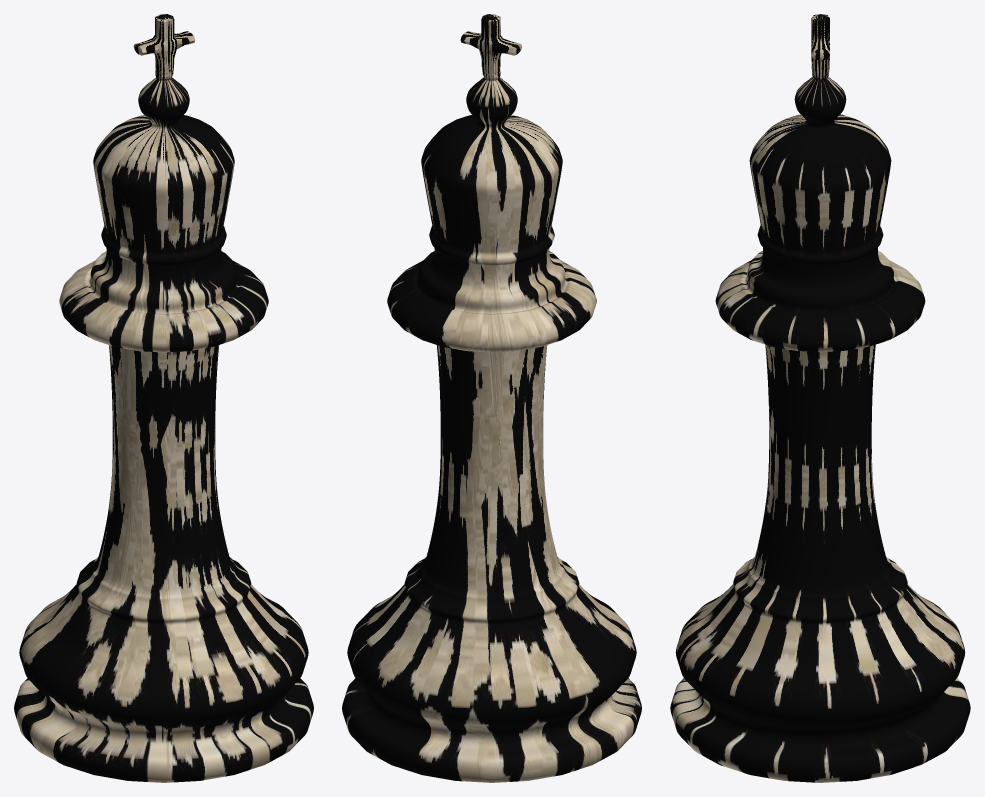
File: king_light.obj
The picture shows the model from 3 angles, left to right: view 1: azimuth 30°, elevation 25°; view 2: azimuth 150°, elevation 25°; view 3: azimuth 270°, elevation 25°; orthographic projection.
Parts seen in each view (by area): view 1: King; view 2: King; view 3: King.
Boxes of the visible parts, bbox=[...] form: King: bbox=[14, 14, 313, 782]; King: bbox=[342, 14, 641, 782]; King: bbox=[670, 14, 970, 782].
Size of the model in its own units: 14.66 by 39.26 by 14.66.
Materials: 1 (1 with a texture image).
